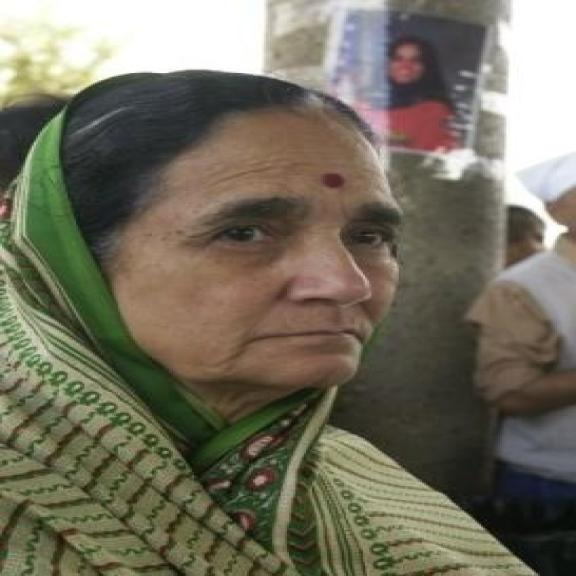face: (78, 97, 411, 398)
